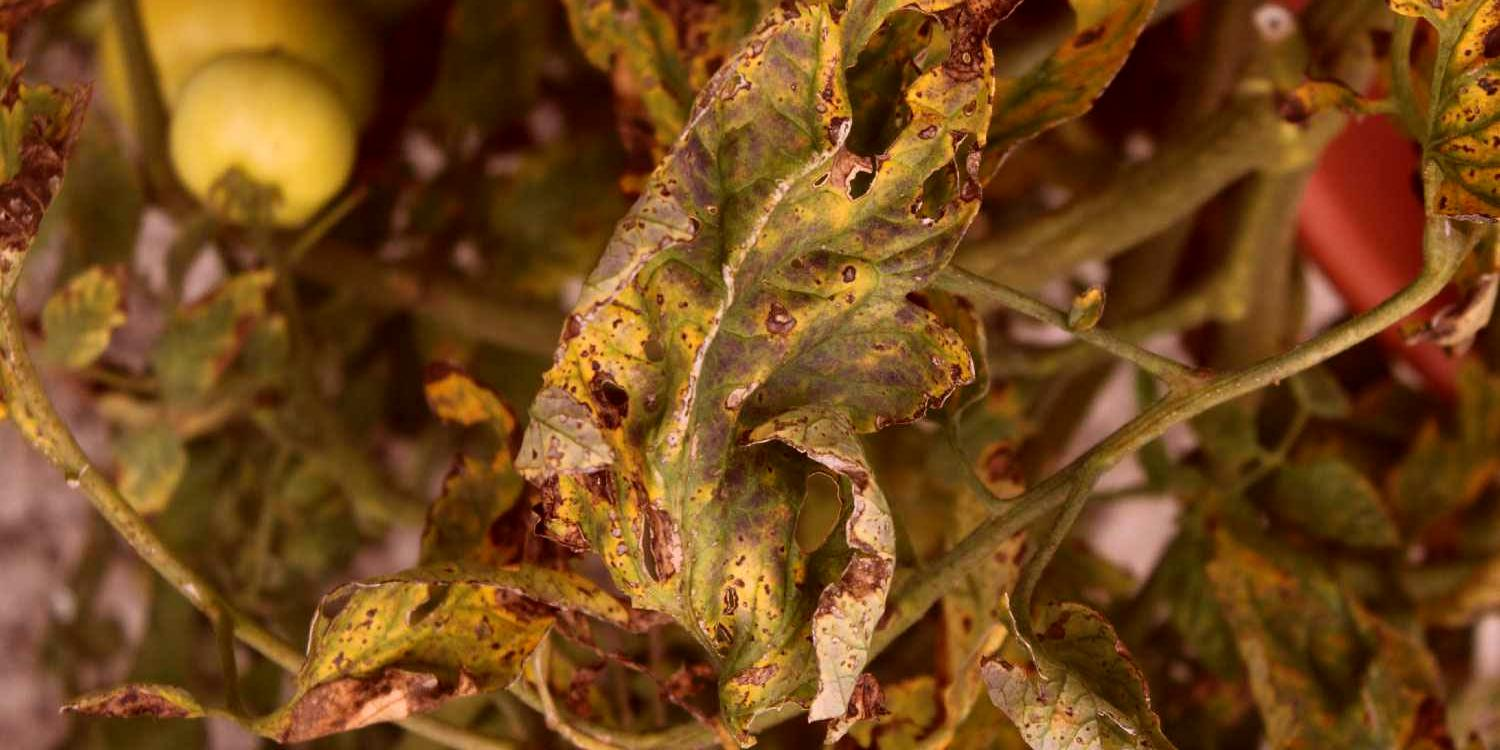Tomato Septoria leaf spot: (511, 0, 1006, 726), (177, 561, 597, 731)
